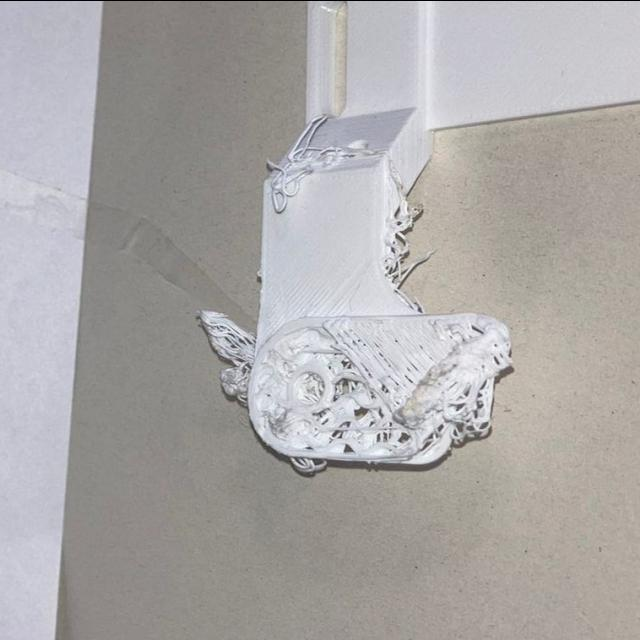Spaghetti: (444, 354, 502, 438), (382, 194, 426, 280), (201, 308, 257, 368), (264, 154, 320, 206)
